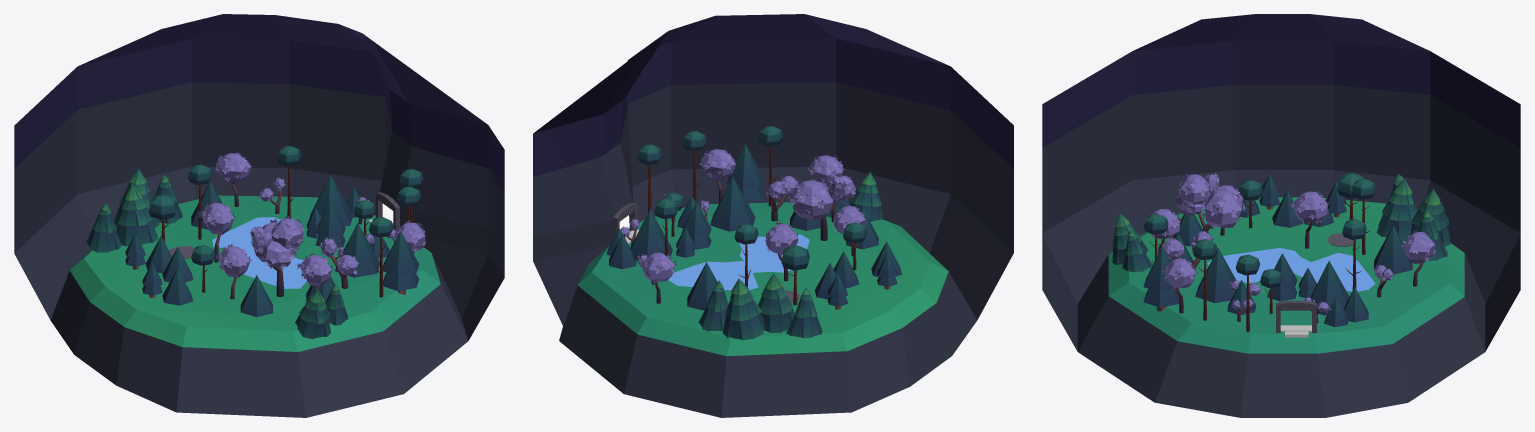
File: INT_Forest.fbx
The picture shows the model from 3 angles, left to right: view 1: azimuth 30°, elevation 25°; view 2: azimuth 150°, elevation 25°; view 3: azimuth 270°, elevation 25°; orthographic projection.
Parts seen in each view (by area): view 1: ForestCaveWalls, ForestGround, Trees.002, PurpleTrees.008, waters.007, PineTrees.003, PineTrees.002, PurpleTrees.003, PurpleTrees.009, PineTrees, PurpleTrees.010, PurpleTrees.007 (+17 smaller); view 2: ForestCaveWalls, ForestGround, Trees.002, PurpleTrees.008, waters.007, PineTrees.002, PineTrees.003, PineTrees, PurpleTrees.005, PurpleTrees.003, PurpleTrees.009, PineTrees.007 (+14 smaller); view 3: ForestCaveWalls, ForestGround, Trees.002, waters.007, PurpleTrees.008, PineTrees.002, PineTrees.003, PineTrees.007, PineTrees, PurpleTrees.009, PurpleTrees.003, PurpleTrees.005 (+17 smaller).
Part boxes in pixels (x1=…): ForestCaveWalls: x1=14, y1=14, x2=504, y2=340; ForestGround: x1=50, y1=195, x2=468, y2=417; Trees.002: x1=86, y1=168, x2=348, y2=339; PurpleTrees.008: x1=250, y1=215, x2=304, y2=296; waters.007: x1=212, y1=217, x2=306, y2=288; PineTrees.003: x1=383, y1=231, x2=419, y2=294; PineTrees.002: x1=335, y1=223, x2=379, y2=277; PurpleTrees.003: x1=215, y1=151, x2=251, y2=206; PurpleTrees.009: x1=198, y1=200, x2=235, y2=262; PineTrees: x1=308, y1=175, x2=353, y2=226; PurpleTrees.010: x1=215, y1=244, x2=251, y2=299; PurpleTrees.007: x1=319, y1=236, x2=358, y2=288; ForestCaveWalls: x1=533, y1=14, x2=1013, y2=352; ForestGround: x1=559, y1=202, x2=977, y2=417; Trees.002: x1=698, y1=172, x2=883, y2=340; PurpleTrees.008: x1=788, y1=155, x2=856, y2=240; waters.007: x1=668, y1=234, x2=809, y2=290; PineTrees.002: x1=710, y1=177, x2=755, y2=231; PineTrees.003: x1=726, y1=144, x2=763, y2=203; PineTrees: x1=630, y1=209, x2=672, y2=260; PurpleTrees.005: x1=700, y1=148, x2=736, y2=203; PurpleTrees.003: x1=640, y1=252, x2=676, y2=303; PurpleTrees.009: x1=765, y1=221, x2=798, y2=281; PineTrees.007: x1=687, y1=262, x2=717, y2=310; ForestCaveWalls: x1=1042, y1=14, x2=1520, y2=351; ForestGround: x1=1077, y1=197, x2=1485, y2=417; Trees.002: x1=1111, y1=173, x2=1450, y2=272; waters.007: x1=1207, y1=248, x2=1375, y2=291; PurpleTrees.008: x1=1176, y1=173, x2=1245, y2=232; PineTrees.002: x1=1195, y1=248, x2=1236, y2=302; PineTrees.003: x1=1143, y1=247, x2=1179, y2=311; PineTrees.007: x1=1374, y1=225, x2=1412, y2=274; PineTrees: x1=1310, y1=260, x2=1349, y2=315; PurpleTrees.009: x1=1291, y1=190, x2=1328, y2=248; PurpleTrees.003: x1=1402, y1=229, x2=1435, y2=286; PurpleTrees.005: x1=1162, y1=258, x2=1198, y2=313.
Size of the model in its own units: 15874 by 10599 by 17294.
